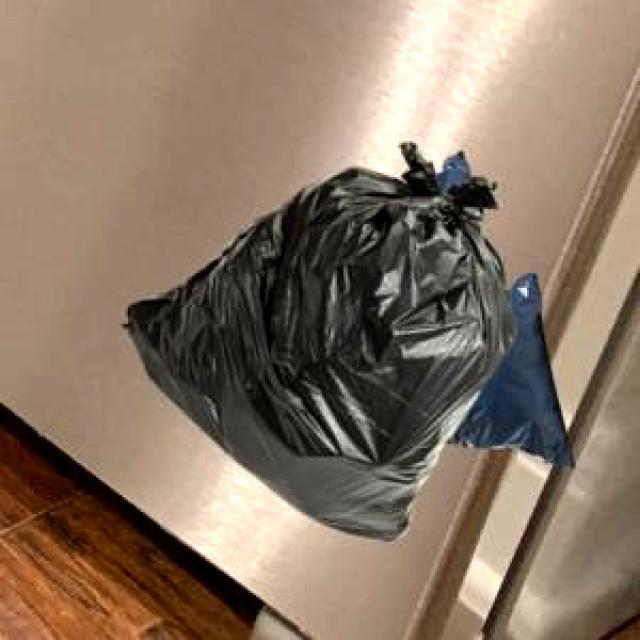Garbage_Bag: (118, 140, 513, 538), (432, 148, 571, 466)
